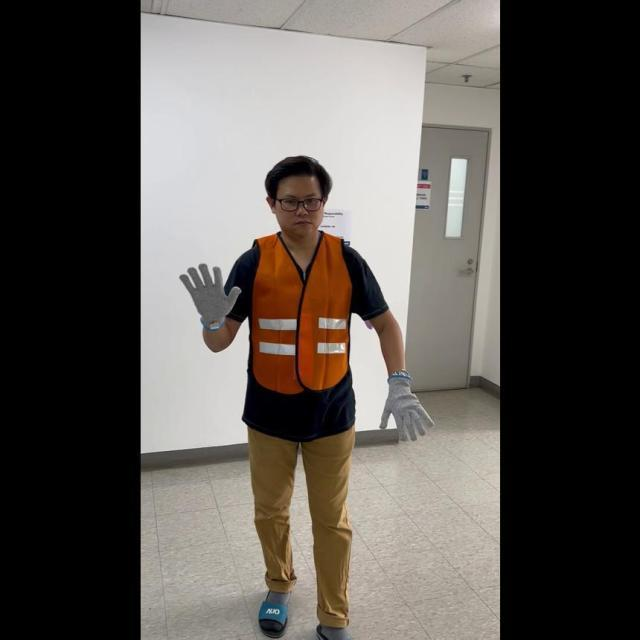gloved_hand: (178, 258, 241, 327), (375, 369, 432, 438)
